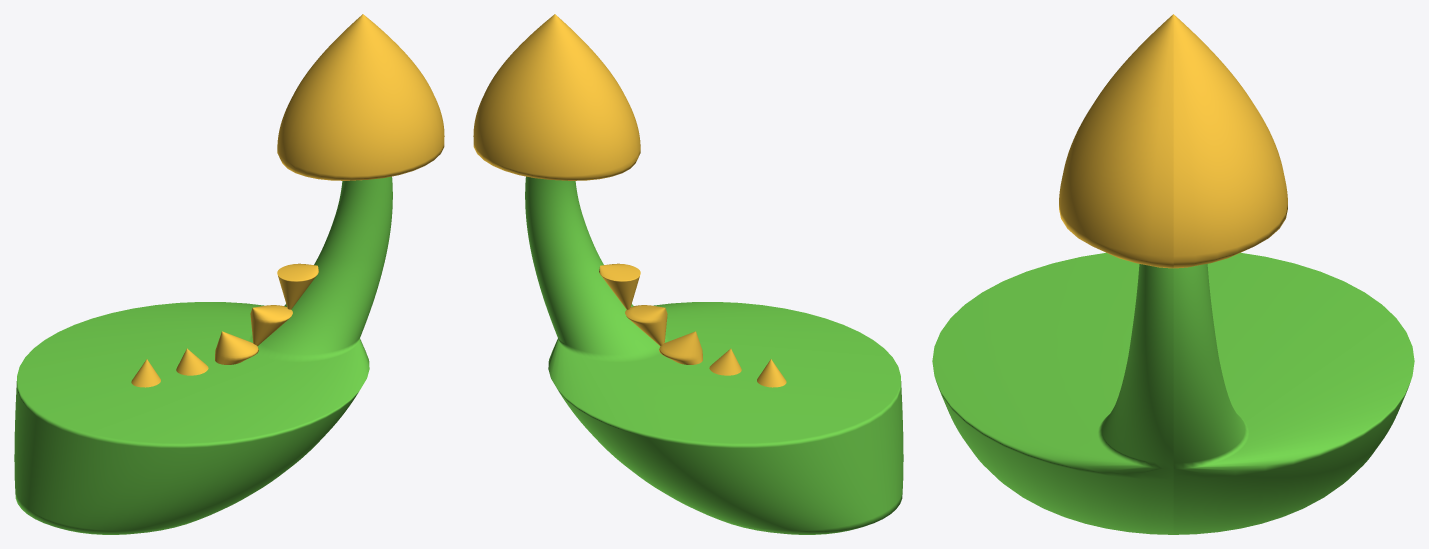
Rendered from tail-lightning.glb.
The picture shows the model from 3 angles, left to right: view 1: azimuth 30°, elevation 25°; view 2: azimuth 150°, elevation 25°; view 3: azimuth 270°, elevation 25°; orthographic projection. The views are drawn at different scales.
Visible parts, largest first — view 1: tail_5_solid, tail_6_solid, tail_4_solid, tail_3_solid, tail_2_solid, tail_1_solid, tail_0_solid; view 2: tail_5_solid, tail_6_solid, tail_4_solid, tail_3_solid, tail_2_solid, tail_1_solid, tail_0_solid; view 3: tail_5_solid, tail_6_solid.
Boxes of the visible parts, left/top/right/bottom form: tail_5_solid: left=14, top=176, right=392, bottom=534; tail_6_solid: left=277, top=14, right=444, bottom=180; tail_4_solid: left=277, top=263, right=318, bottom=309; tail_3_solid: left=250, top=305, right=292, bottom=345; tail_2_solid: left=215, top=331, right=258, bottom=364; tail_1_solid: left=176, top=348, right=208, bottom=375; tail_0_solid: left=131, top=359, right=160, bottom=387; tail_5_solid: left=525, top=176, right=903, bottom=534; tail_6_solid: left=473, top=14, right=640, bottom=180; tail_4_solid: left=599, top=263, right=640, bottom=309; tail_3_solid: left=625, top=305, right=667, bottom=345; tail_2_solid: left=659, top=331, right=702, bottom=364; tail_1_solid: left=709, top=348, right=741, bottom=375; tail_0_solid: left=757, top=359, right=786, bottom=387; tail_5_solid: left=932, top=252, right=1414, bottom=534; tail_6_solid: left=1059, top=14, right=1287, bottom=268.
Bounding box in the file's own units: 0.6803 × 0.6929 × 0.4701.
